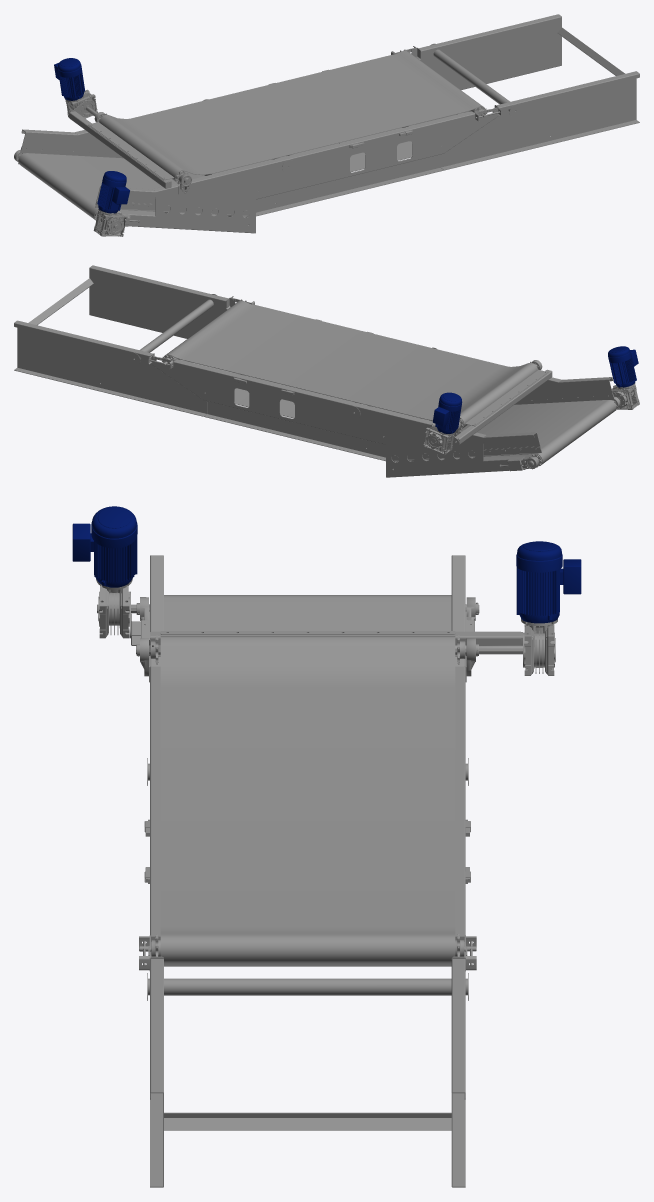
File: single.FBX
3 renders of one model, top to bottom at view 1: azimuth 30°, elevation 25°; view 2: azimuth 150°, elevation 25°; view 3: azimuth 270°, elevation 25°, orthographic. The views are drawn at different scales.
Parts seen in each view (by area): view 1: Box001; view 2: Box001; view 3: Box001.
Boxes of the visible parts, x1=… form: Box001: x1=14, y1=14, x2=639, y2=236; Box001: x1=14, y1=265, x2=639, y2=477; Box001: x1=72, y1=506, x2=581, y2=1187.
Size of the model in its own units: 139 by 28.74 by 57.09.
